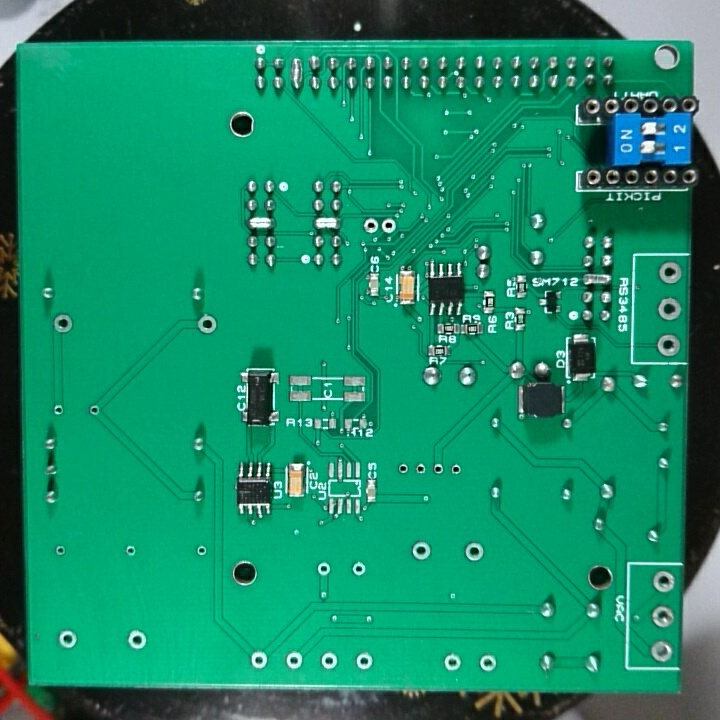F: (655, 258, 685, 289), (647, 635, 676, 665), (654, 332, 682, 362), (655, 295, 685, 322), (407, 540, 439, 563), (124, 626, 150, 654), (650, 570, 679, 595), (462, 540, 488, 565), (476, 650, 501, 676), (649, 605, 679, 625), (52, 312, 75, 338), (195, 312, 219, 336), (56, 627, 79, 652), (318, 649, 341, 672), (441, 651, 464, 674), (249, 647, 270, 672), (283, 650, 307, 670), (353, 649, 375, 670), (379, 215, 398, 238), (349, 558, 367, 581), (316, 558, 335, 578), (361, 215, 379, 236), (448, 460, 464, 483), (396, 460, 413, 478), (430, 460, 445, 480), (52, 401, 67, 420), (414, 461, 428, 479), (193, 544, 208, 560), (124, 543, 139, 559), (87, 403, 102, 418), (52, 543, 68, 557)
P: (582, 271, 616, 289), (288, 55, 303, 95), (244, 214, 277, 232), (313, 217, 345, 232)
